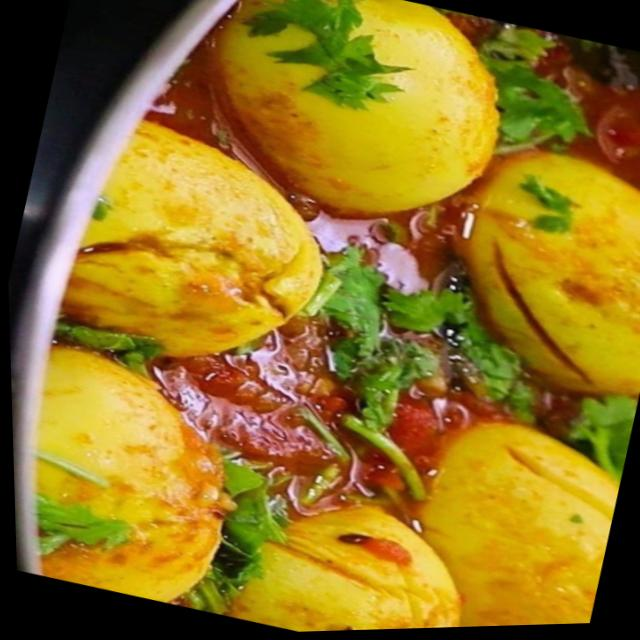EGG: (37, 0, 640, 632)
